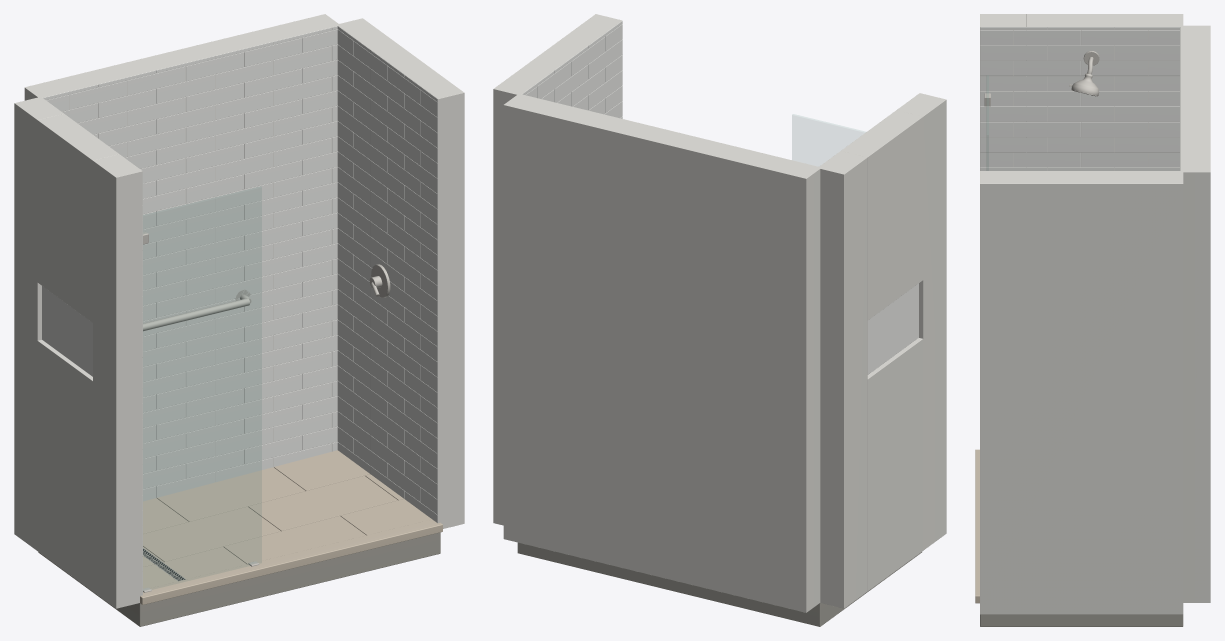
File: west-seattle-bathroom-renovation-three-bathrooms.glb
3 views of the same model, side by side, from view 1: azimuth 30°, elevation 25°; view 2: azimuth 150°, elevation 25°; view 3: azimuth 270°, elevation 25° (orthographic).
Parts seen in each view (by area): view 1: Basement subway · field tile, Basement left return · wall core, Fixed shower screen, Right return · field tile, Basement shower · tile, Right return · wall core, Basement subway · wall core, Basement shower · foundation, Basement shower · stone threshold, Basement left-wall recess · recess, Grab rail; view 2: Basement subway · wall core, Basement left return · wall core, Right return · wall core, Right return · field tile, Basement shower · foundation, Basement left-wall recess · recess, Fixed shower screen; view 3: Right return · wall core, Basement left return · field tile, Basement subway · wall core, Basement left return · wall core, Basement shower · foundation, Basement shower · stone threshold, Showerhead · turned bell.
Boxes of the visible parts, left/top/right/bottom form: Basement subway · field tile: left=43, top=26, right=337, bottom=501; Basement left return · wall core: left=14, top=97, right=142, bottom=608; Fixed shower screen: left=143, top=187, right=261, bottom=590; Right return · field tile: left=337, top=26, right=437, bottom=523; Basement shower · tile: left=142, top=450, right=431, bottom=588; Right return · wall core: left=337, top=18, right=464, bottom=528; Basement subway · wall core: left=24, top=14, right=339, bottom=489; Basement shower · foundation: left=38, top=532, right=440, bottom=626; Basement shower · stone threshold: left=140, top=519, right=442, bottom=604; Basement left-wall recess · recess: left=42, top=286, right=92, bottom=376; Grab rail: left=143, top=298, right=250, bottom=331; Basement subway · wall core: left=503, top=93, right=820, bottom=612; Basement left return · wall core: left=818, top=93, right=946, bottom=608; Right return · wall core: left=493, top=14, right=622, bottom=525; Right return · field tile: left=522, top=21, right=622, bottom=118; Basement shower · foundation: left=517, top=542, right=921, bottom=626; Basement left-wall recess · recess: left=867, top=283, right=918, bottom=374; Fixed shower screen: left=792, top=114, right=864, bottom=165; Right return · wall core: left=980, top=171, right=1183, bottom=614; Basement left return · field tile: left=980, top=27, right=1179, bottom=170; Basement subway · wall core: left=1180, top=25, right=1210, bottom=602; Basement left return · wall core: left=980, top=14, right=1183, bottom=170; Basement shower · foundation: left=980, top=614, right=1183, bottom=626; Basement shower · stone threshold: left=975, top=449, right=979, bottom=603; Showerhead · turned bell: left=1071, top=73, right=1099, bottom=95.
Size of the model in its own units: 1.82 by 2.27 by 1.07.
